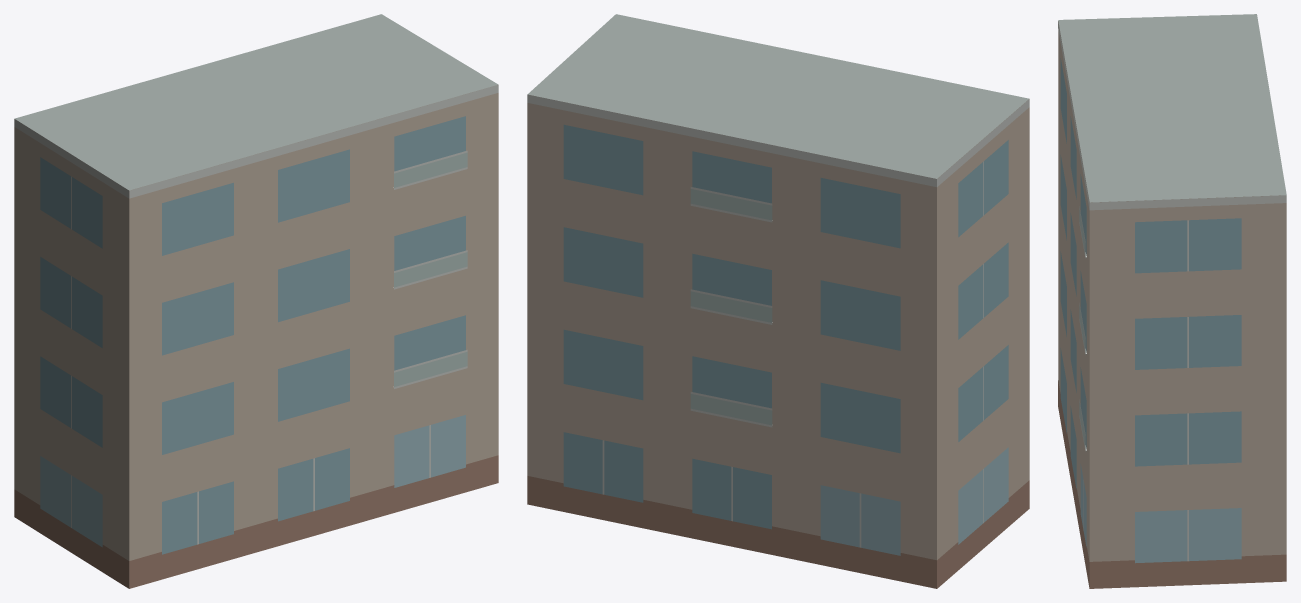
Rendered from survey-upis-32698635.glb.
3 views of the same model, side by side, from view 1: azimuth 30°, elevation 25°; view 2: azimuth 150°, elevation 25°; view 3: azimuth 270°, elevation 25° (orthographic). The views are drawn at different scales.
Parts seen in each view (by area): view 1: survey-upis-32698635.tmp; view 2: survey-upis-32698635.tmp; view 3: survey-upis-32698635.tmp.
Part boxes in pixels (x1,y1,x2,y2): survey-upis-32698635.tmp: [14, 14, 498, 588]; survey-upis-32698635.tmp: [527, 14, 1029, 588]; survey-upis-32698635.tmp: [1058, 14, 1286, 588].
Bounding box in the file's own units: 12.56 × 12 × 6.45.
